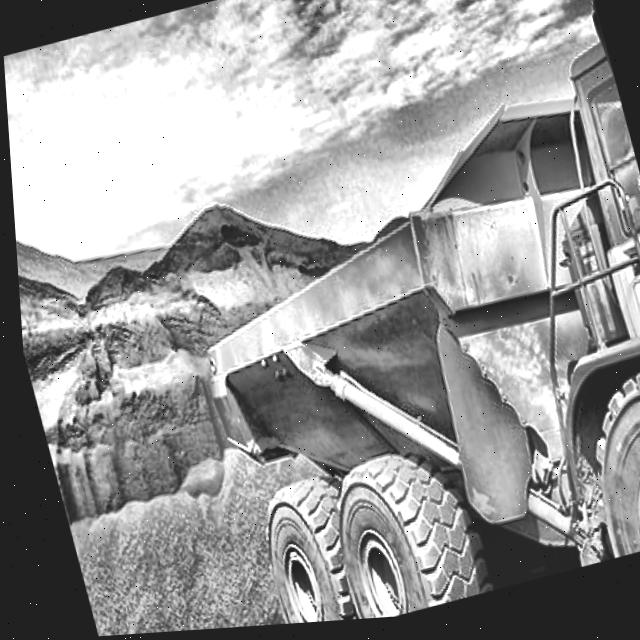dump_truck: (98, 0, 640, 635)
